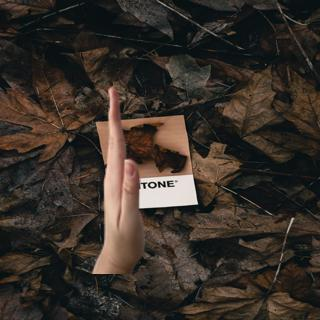Right: (89, 87, 151, 265)
